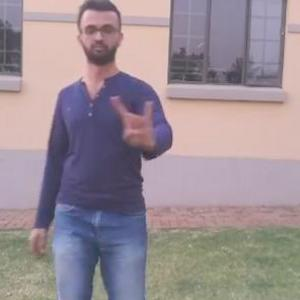takeoff-hand: (113, 88, 166, 146)
